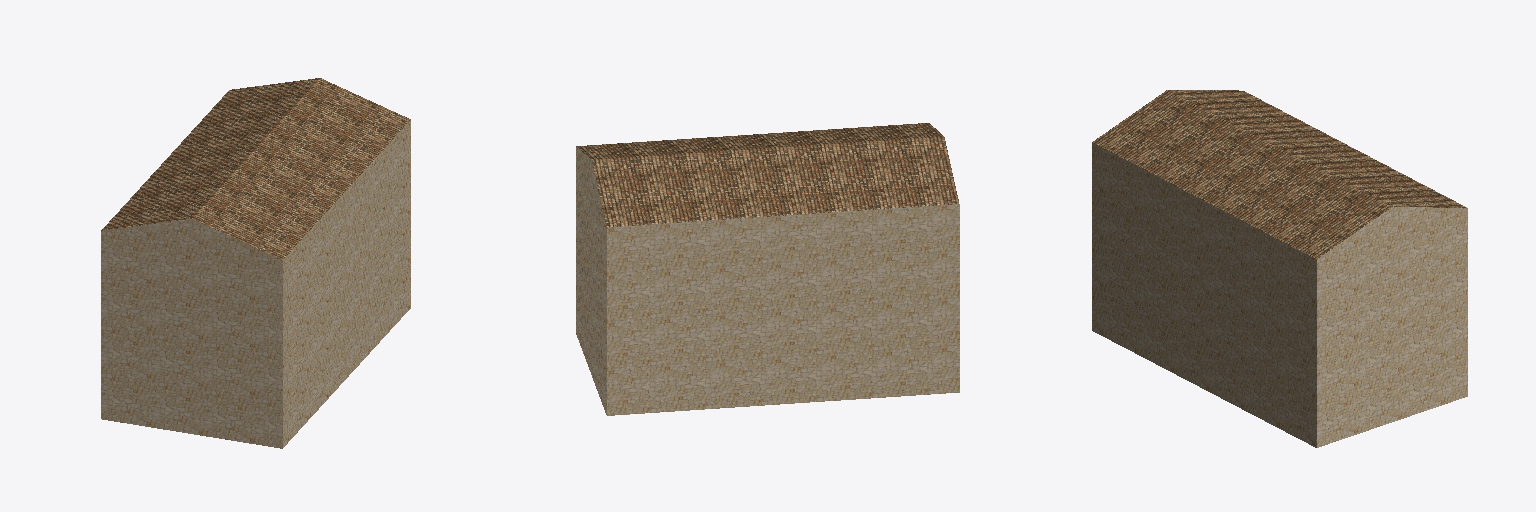
3 renders of one model, left to right at view 1: azimuth 30°, elevation 25°; view 2: azimuth 150°, elevation 25°; view 3: azimuth 270°, elevation 25°, orthographic.
Parts seen in each view (by area): view 1: DummyTwo_DummyTwoMesh; view 2: DummyTwo_DummyTwoMesh; view 3: DummyTwo_DummyTwoMesh.
Boxes of the visible parts, box(x1,y1,x2,y2) form: DummyTwo_DummyTwoMesh: box(101, 78, 410, 448); DummyTwo_DummyTwoMesh: box(576, 123, 959, 415); DummyTwo_DummyTwoMesh: box(1092, 90, 1467, 447).
Bounding box in the file's own units: 46.88 × 27.86 × 44.04.
Materials: 1 (1 with a texture image).